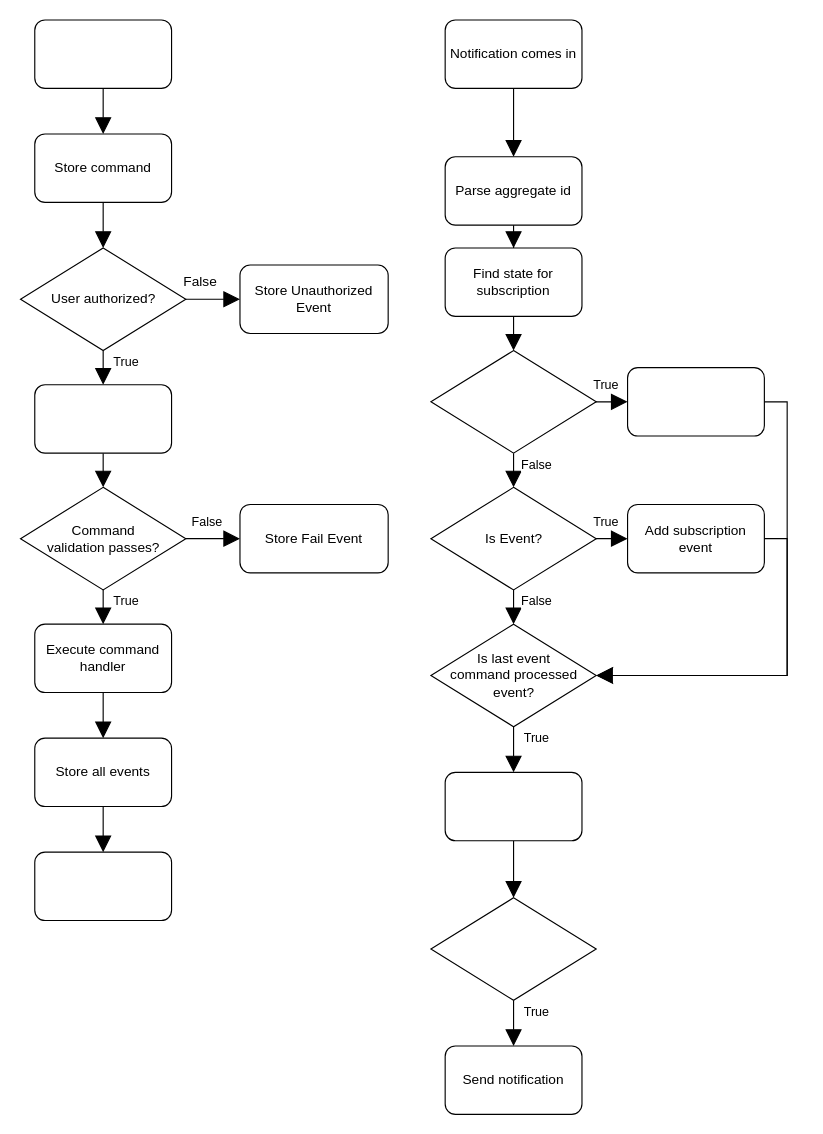
The diagram is 823 pixels wide and 1134 high, and some of its shapes have lost their labels. The box of each missing label's shape, as (x1, y1, x2, y2) in pixels:
Command comes in: (34, 19, 172, 88)
Is Command?: (430, 349, 596, 453)
Load aggregate for id: (34, 384, 172, 453)
Requires notification?: (430, 897, 596, 1000)
Store command processed event: (34, 851, 172, 921)
Update all projections for aggregate id: (444, 771, 582, 841)
Update subscription command: (626, 367, 764, 436)
